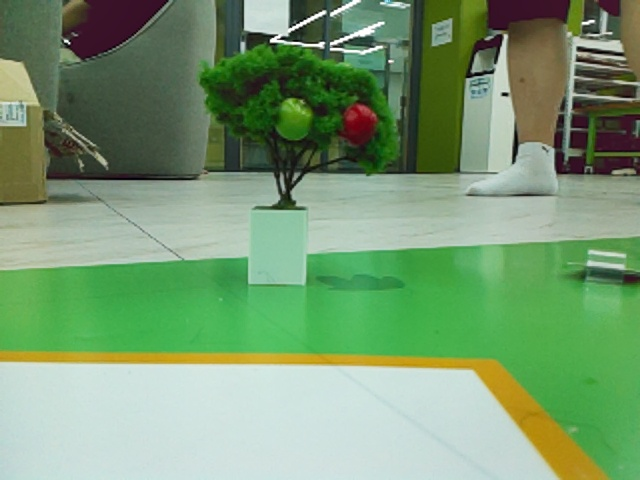apple: (340, 101, 382, 151)
